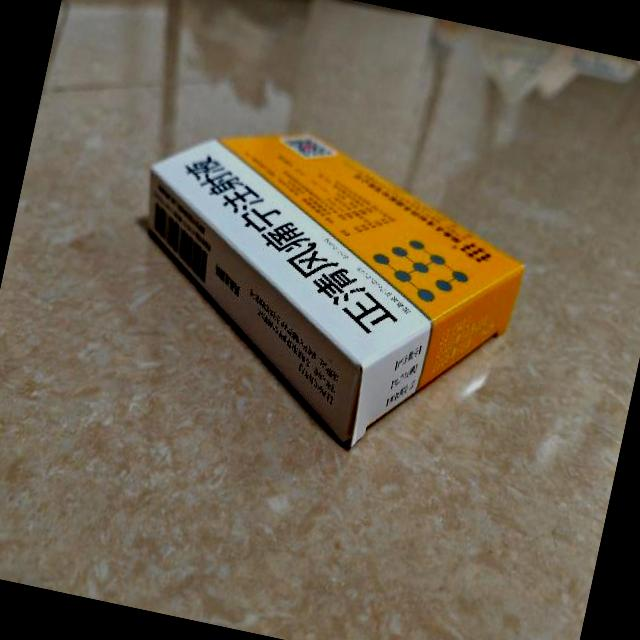box: (102, 100, 542, 474)
